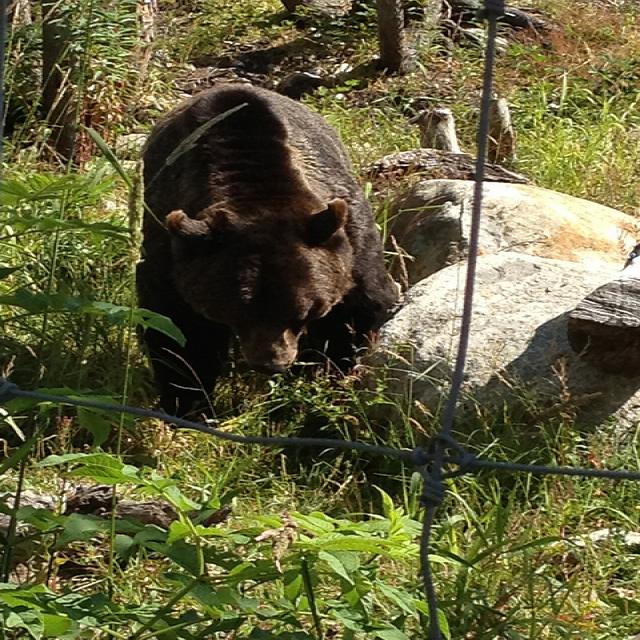Bear: (138, 78, 398, 416)
